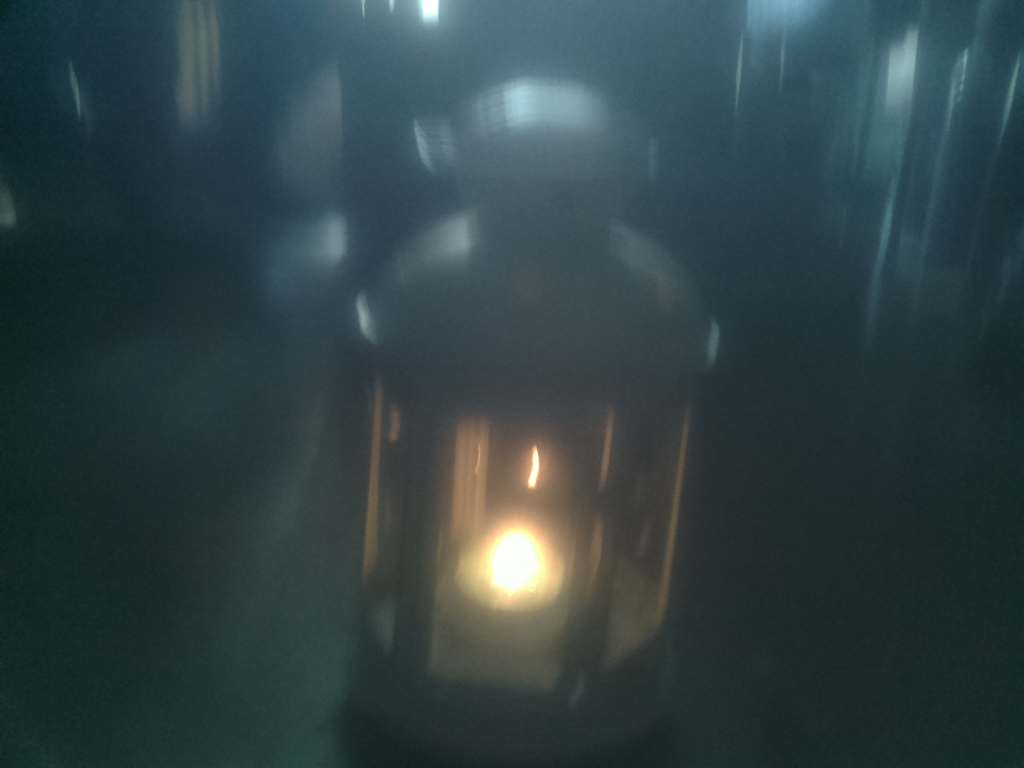fire: (442, 488, 595, 656)
